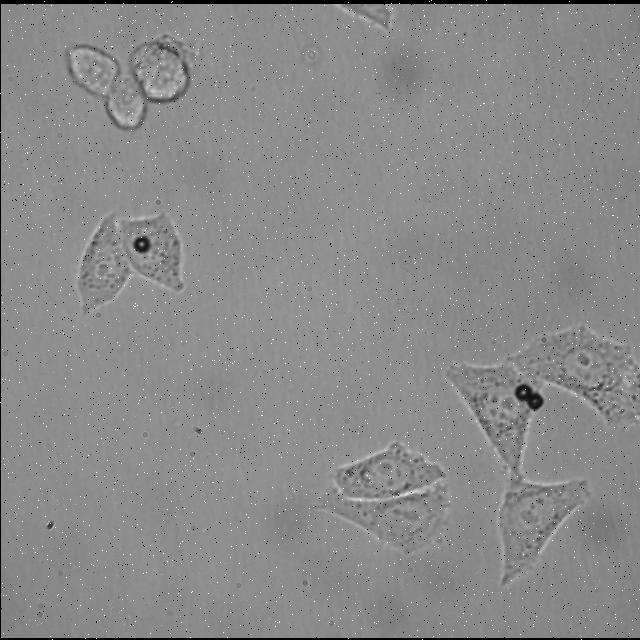microbeads: (510, 380, 536, 402), (524, 390, 544, 410), (136, 233, 150, 250)
